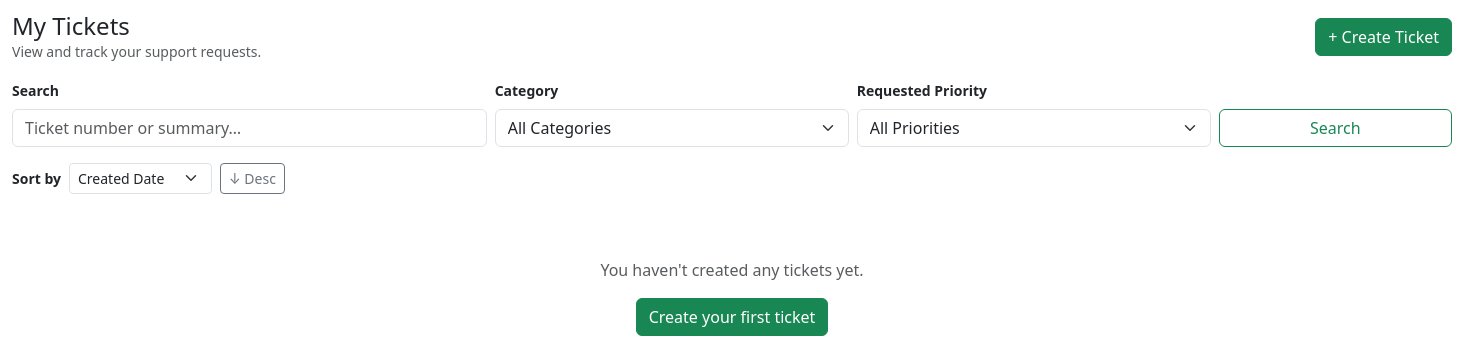
Scenario: MyTickets › shows a distinct No-results state when a search matches nothing
Step 1. Type "nonexistent" into the field labelled "Search" → (249, 128), box [12, 109, 487, 147]
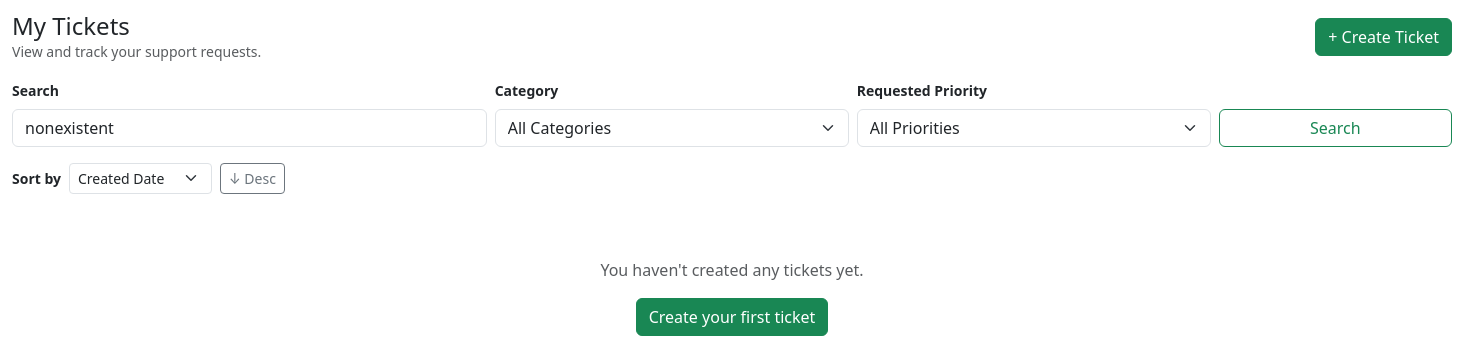
Step 2. Submit the form labelled "Search Category Requested Priority Search"
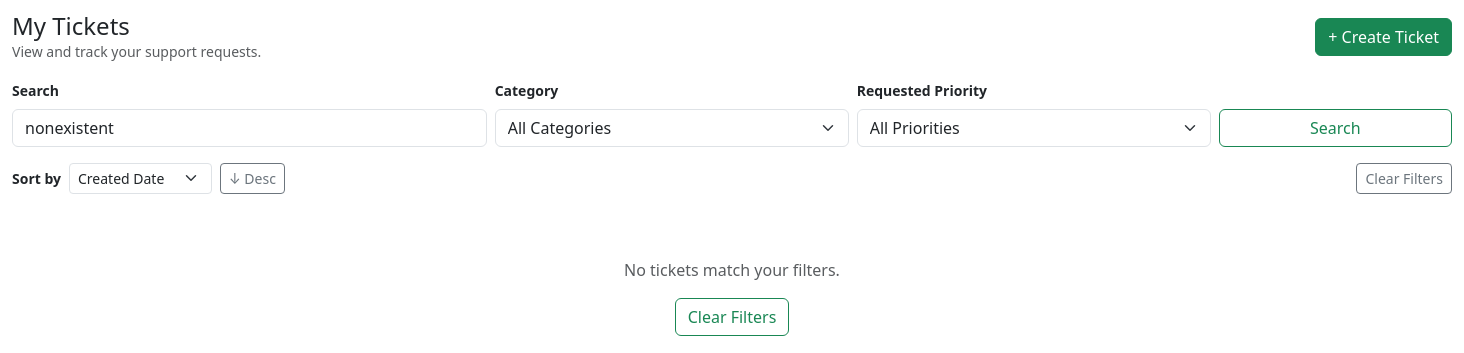
Now the text "No tickets match your filters." is shown, box [624, 259, 840, 281]
Now the button "Clear Filters" in the row of "Sort by" is shown, box [1356, 163, 1452, 194]
